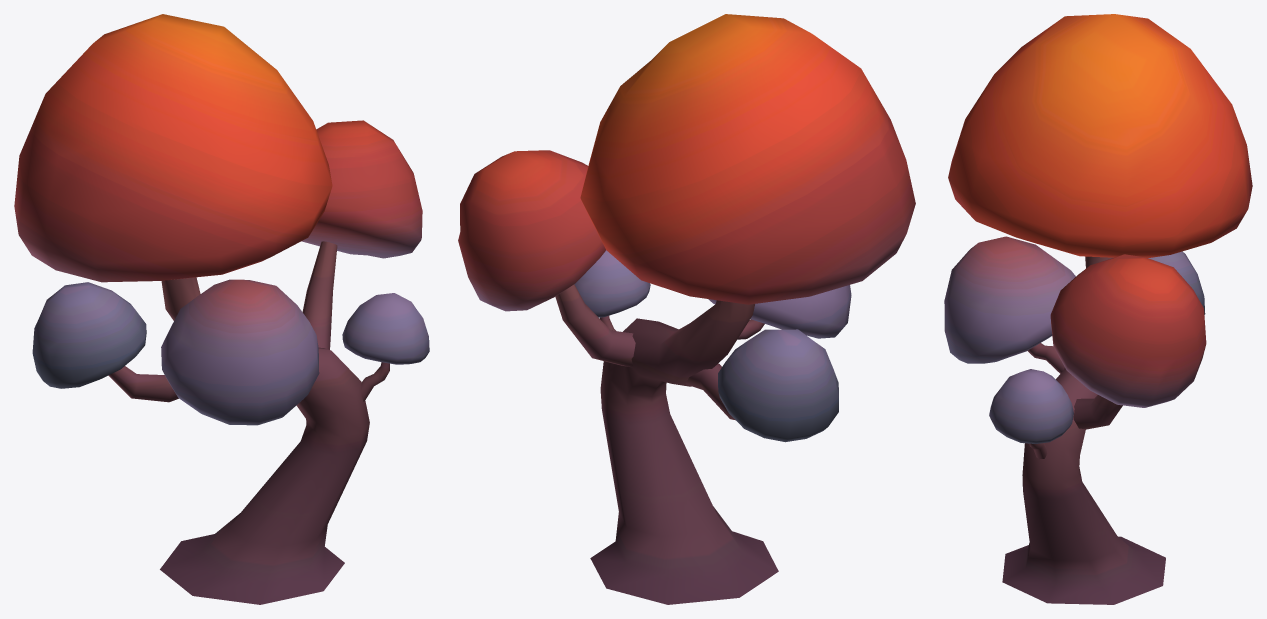
The model's file is Tree_21.fbx.
The picture shows the model from 3 angles, left to right: view 1: azimuth 30°, elevation 25°; view 2: azimuth 150°, elevation 25°; view 3: azimuth 270°, elevation 25°; orthographic projection. The views are drawn at different scales.
Visible parts, largest first — view 1: Tree_21; view 2: Tree_21; view 3: Tree_21.
Boxes of the visible parts, left/top/right/bottom form: Tree_21: left=14, top=14, right=429, bottom=604; Tree_21: left=458, top=14, right=915, bottom=604; Tree_21: left=944, top=14, right=1252, bottom=604.
Size of the model in its own units: 328 by 441 by 237.
